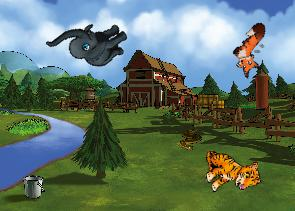elephant: (45, 0, 134, 86)
fox: (223, 19, 283, 81)
tiger: (200, 142, 262, 197)
